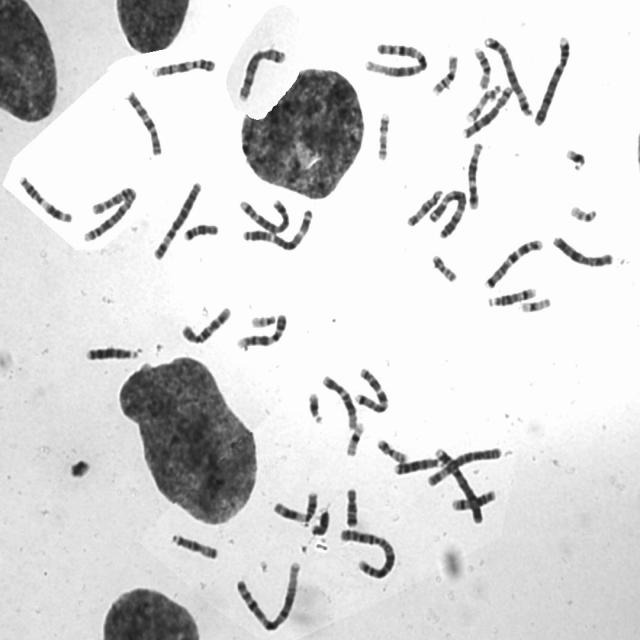A1: (232, 556, 303, 633), (360, 37, 430, 79)
A2: (80, 182, 139, 244), (335, 523, 398, 581)
A3: (240, 203, 316, 252), (427, 185, 469, 239)
B4: (430, 443, 486, 525), (530, 30, 572, 126)
B5: (481, 29, 535, 118), (236, 193, 292, 236)
C10: (123, 86, 164, 157), (177, 301, 234, 346)
C11: (15, 171, 74, 224), (270, 486, 320, 525)
C12: (319, 369, 359, 430), (464, 137, 486, 210)
C6: (149, 176, 204, 262), (423, 441, 503, 488)
C7: (482, 233, 546, 290), (352, 362, 391, 414)
C8: (234, 42, 288, 103), (459, 80, 514, 139)
C9: (233, 308, 290, 351), (148, 52, 218, 79)
D13: (392, 452, 443, 476), (82, 341, 138, 362)
D14: (484, 281, 539, 309), (449, 485, 498, 512)
D15: (404, 184, 445, 228), (168, 528, 220, 561)
E16: (429, 49, 460, 96), (471, 42, 493, 90)
E17: (463, 80, 503, 124), (374, 106, 392, 162)
E18: (180, 217, 220, 242), (342, 482, 361, 528)
F19: (342, 418, 367, 458), (516, 291, 554, 314)
F20: (373, 433, 410, 464), (428, 250, 459, 284)
G21: (304, 387, 326, 425), (562, 143, 588, 172)
G22: (566, 199, 600, 224), (247, 308, 279, 328)
X: (549, 230, 616, 268)
Y: (308, 505, 331, 536)
